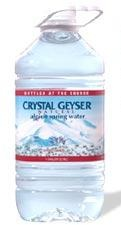grozi_92: (15, 6, 105, 223)
